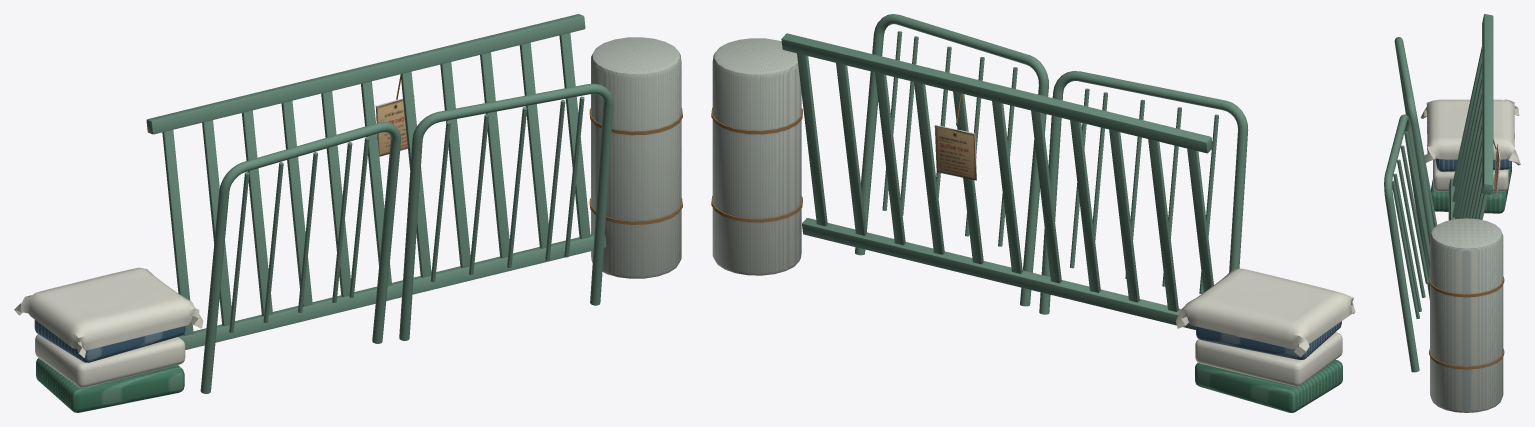
Rendered from CTCC_PROP_DismantledBedFrame.fbx.
3 renders of one model, left to right at view 1: azimuth 30°, elevation 25°; view 2: azimuth 150°, elevation 25°; view 3: azimuth 270°, elevation 25°, orthographic. The views are drawn at different scales.
Visible parts, largest first — view 1: CTCC_PROP_DismantledBedFrame_LOD0; view 2: CTCC_PROP_DismantledBedFrame_LOD0; view 3: CTCC_PROP_DismantledBedFrame_LOD0.
Part boxes in pixels (x1,y1,x2,y2): CTCC_PROP_DismantledBedFrame_LOD0: [14, 14, 682, 412]; CTCC_PROP_DismantledBedFrame_LOD0: [711, 14, 1355, 412]; CTCC_PROP_DismantledBedFrame_LOD0: [1384, 14, 1520, 412].
Size of what is drawn, in the model's own units: 2.8 by 1.05 by 0.652.
